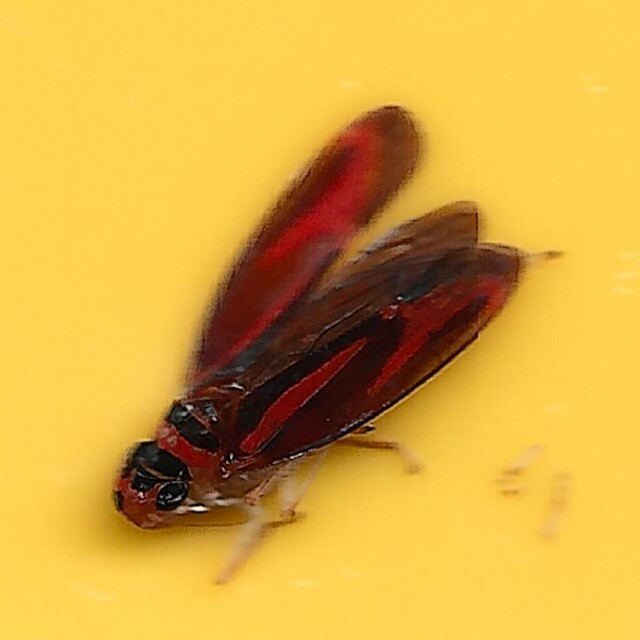Hemiptera: (105, 101, 535, 539)
